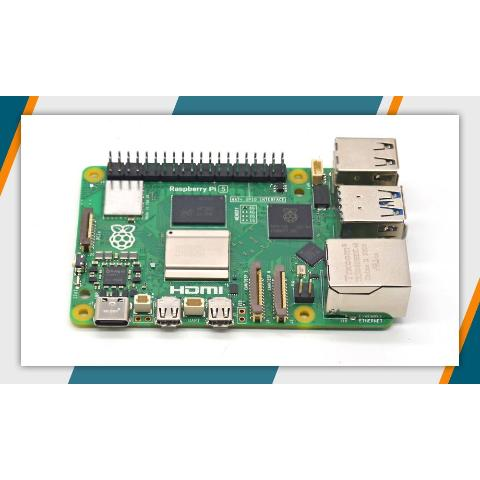Raspberry Pi 5: (65, 133, 414, 331)
